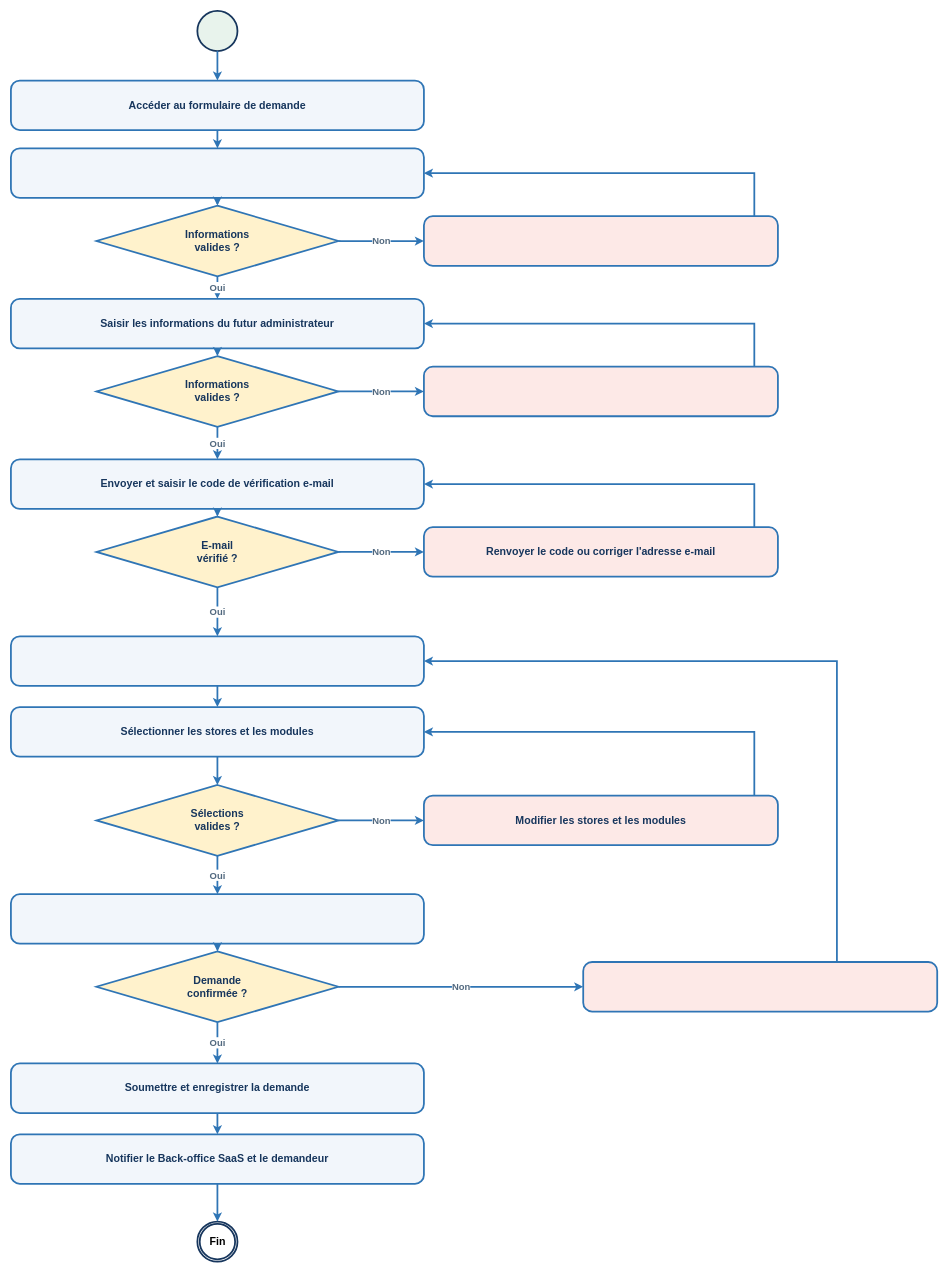
The diagram is 948 pixels wide and 1273 high, and some of its shapes have lost their labels. Here are the shapes that lost their labels. From the top down, the box of each, then its label:
(196, 10, 238, 52): Début
(10, 147, 425, 199): Saisir les informations de la banque
(423, 215, 779, 266): Corriger les informations de la banque
(423, 366, 779, 417): Corriger les informations de l'administrateur
(10, 635, 425, 686): Configurer l'identité de la marketplace
(10, 893, 425, 944): Afficher le récapitulatif de la demande
(582, 961, 938, 1012): Modifier la configuration
